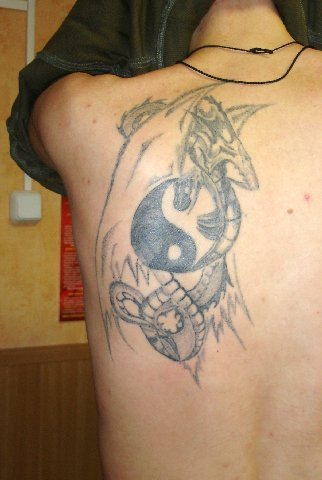tatu7_zmeya: (88, 80, 270, 383)
